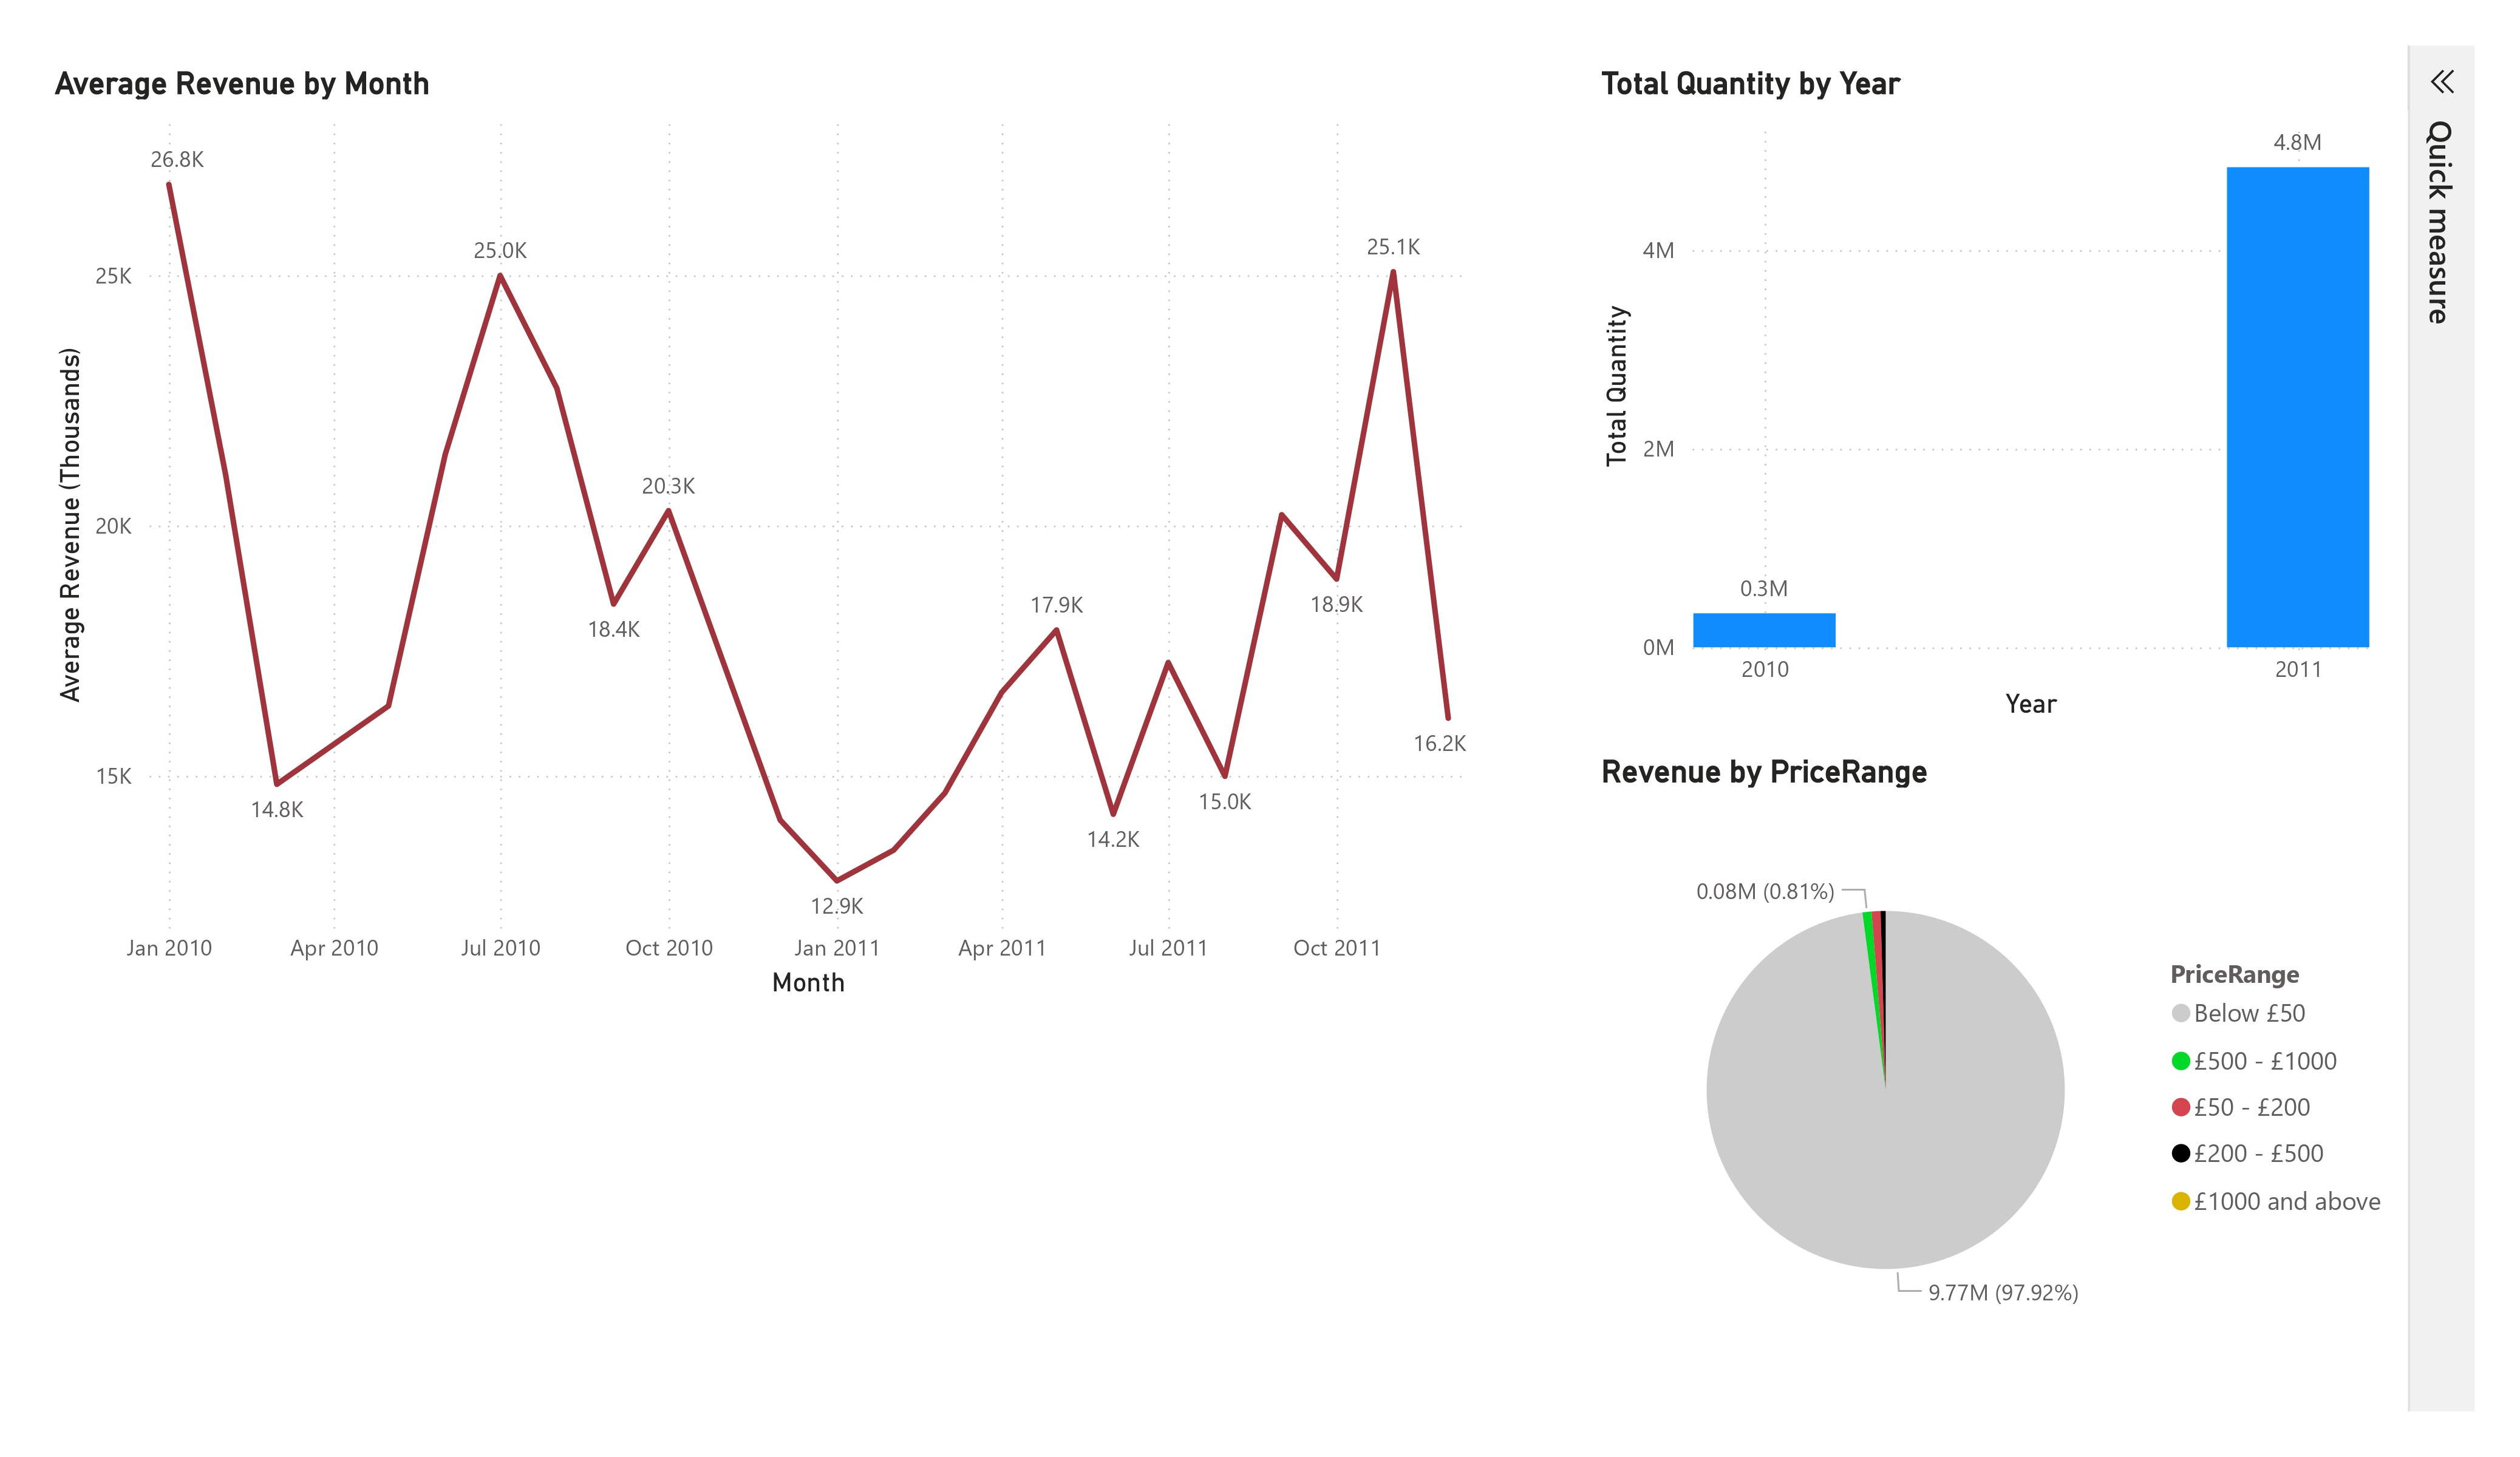

This screenshot's page, from the dashboard's own definition file:
{"tool":"powerbi","page":{"name":"Page 1","canvas":[1280,720],"ordinal":0},"visuals":[{"type":"tableEx","box":[10,0,280,280],"z":0},{"type":"lineChart","title":"Average Revenue by Month","fields":{"Category":["SummarizedTable1.InvoiceDate.Variation.Date Hierarchy.Year","SummarizedTable1.InvoiceDate.Variation.Date Hierarchy.Quarter","SummarizedTable1.InvoiceDate.Variation.Date Hierarchy.Month","SummarizedTable1.InvoiceDate.Variation.Date Hierarchy.Day"],"Y":["Sum(SummarizedTable1.Average Revenue)"]},"box":[9.6,0,789,511.8],"z":1},{"type":"columnChart","title":"Total Quantity by Year","fields":{"Category":["data.InvoiceDate.Variation.Date Hierarchy.Year"],"Y":["Sum(data.Quantity)"]},"box":[838.4,0,425.4,359.5],"z":2},{"type":"pieChart","title":"Revenue by PriceRange","fields":{"Category":["data.PriceRange"],"Y":["Sum(data.Revenue)"]},"box":[838.4,373.2,441.9,347.2],"z":3}]}

Visuals, with their boxes in screenshot pixels (x1, y1, x2, y2):
tableEx: rect(0, 72, 392, 596)
"Average Revenue by Month" lineChart: rect(0, 72, 1344, 1030)
"Total Quantity by Year" columnChart: rect(1419, 72, 2216, 745)
"Revenue by PriceRange" pieChart: rect(1419, 771, 2247, 1421)
